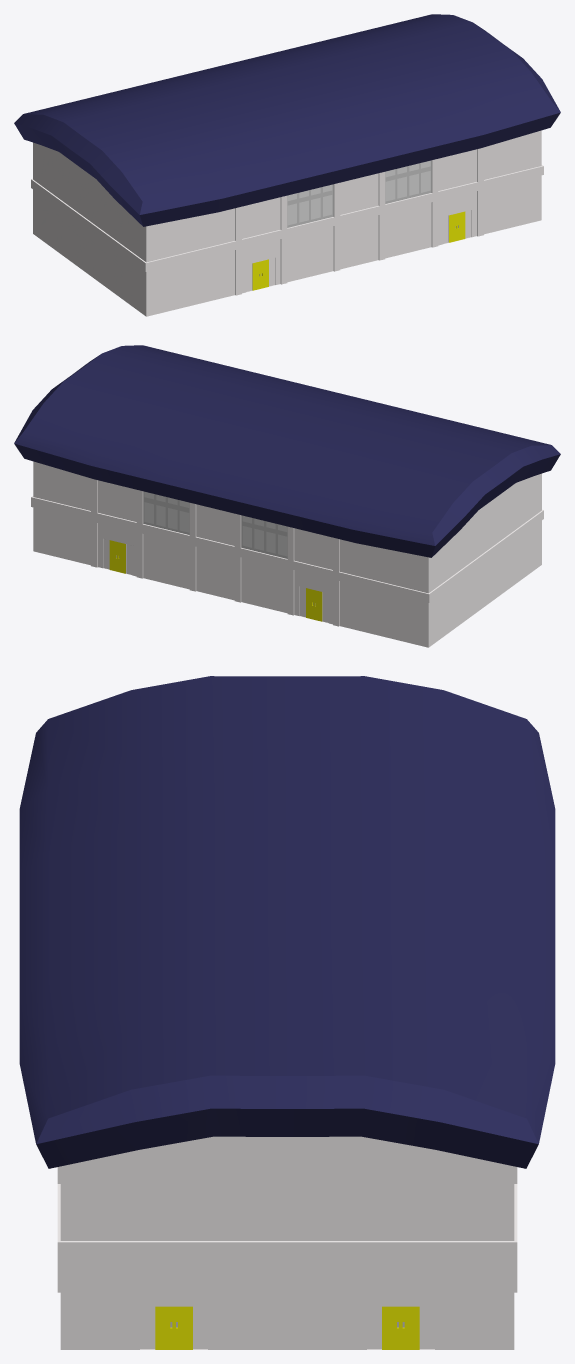
Rendered from school_gym.fbx.
The picture shows the model from 3 angles, top to bottom: view 1: azimuth 30°, elevation 25°; view 2: azimuth 150°, elevation 25°; view 3: azimuth 270°, elevation 25°; orthographic projection. The views are drawn at different scales.
Visible parts, largest first — view 1: school_02:polySurface60; view 2: school_02:polySurface60; view 3: school_02:polySurface60.
Part boxes in pixels (x1,y1,x2,y2): school_02:polySurface60: [14, 14, 560, 316]; school_02:polySurface60: [14, 345, 560, 647]; school_02:polySurface60: [19, 676, 555, 1349].
Bounding box in the file's own units: 46.33 × 14.36 × 24.8.
